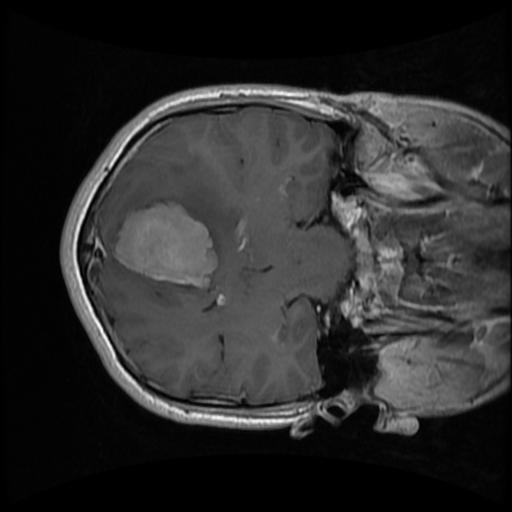meningioma: (114, 201, 216, 288)
